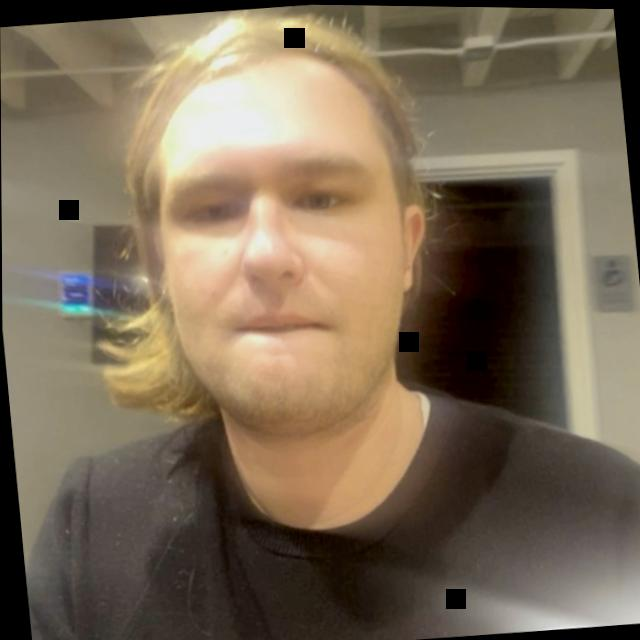NO-Mask: (128, 1, 466, 492)
